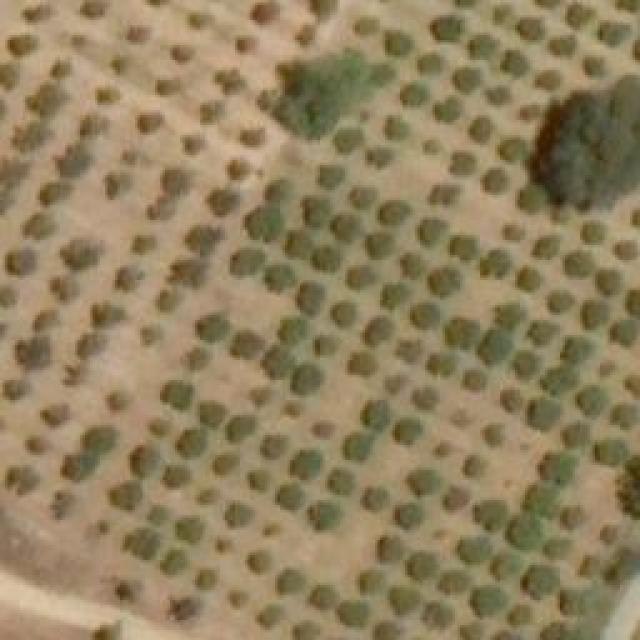Tree: (530, 75, 640, 208), (263, 48, 368, 138), (13, 330, 53, 375), (13, 118, 53, 158), (118, 528, 161, 563), (75, 423, 118, 456), (62, 238, 100, 273), (28, 85, 68, 118), (57, 143, 95, 176), (525, 398, 560, 433), (505, 515, 540, 550), (520, 480, 555, 515), (250, 205, 283, 240), (295, 280, 328, 315), (470, 498, 505, 531), (20, 213, 58, 243), (185, 225, 223, 255), (427, 13, 465, 43), (233, 120, 266, 153), (228, 328, 261, 361), (428, 265, 461, 298), (478, 248, 511, 281), (557, 583, 589, 617), (127, 440, 155, 478), (0, 465, 38, 493), (103, 483, 138, 513), (490, 300, 525, 330), (323, 468, 358, 498), (470, 585, 505, 615), (170, 260, 210, 285), (5, 248, 35, 281), (100, 168, 133, 198), (158, 168, 191, 198), (363, 318, 393, 351), (223, 500, 256, 530), (340, 430, 370, 463), (425, 600, 458, 630), (380, 30, 415, 58), (290, 363, 318, 398), (598, 22, 631, 50), (450, 65, 483, 93), (538, 367, 571, 395), (225, 153, 255, 183), (0, 158, 30, 188), (503, 50, 533, 80), (333, 213, 363, 243), (445, 318, 475, 348), (480, 330, 510, 360), (563, 248, 593, 278), (290, 448, 320, 478), (393, 415, 423, 445), (388, 585, 418, 615), (70, 333, 105, 358), (590, 438, 625, 463), (47, 53, 75, 83), (218, 67, 248, 95), (205, 187, 235, 215), (302, 195, 330, 225), (287, 230, 315, 260), (472, 118, 500, 148), (365, 225, 393, 255), (417, 218, 445, 248), (230, 245, 258, 275), (265, 263, 293, 293), (275, 317, 305, 345), (330, 300, 360, 328), (175, 425, 205, 453), (520, 183, 548, 213), (575, 387, 605, 415), (173, 515, 203, 543), (310, 502, 340, 530), (310, 582, 340, 610), (395, 500, 425, 528), (410, 468, 438, 498), (458, 535, 488, 563), (408, 552, 438, 580), (522, 565, 550, 595), (540, 452, 570, 480), (265, 178, 298, 203), (193, 403, 226, 428), (438, 570, 471, 595), (395, 83, 430, 106), (260, 347, 288, 375), (197, 317, 225, 345), (115, 265, 143, 293), (407, 300, 435, 328), (512, 352, 540, 380), (375, 535, 403, 563), (518, 15, 551, 38), (535, 535, 568, 558), (575, 555, 603, 582), (5, 35, 35, 60), (138, 110, 168, 135), (38, 178, 68, 203), (383, 115, 413, 140), (430, 98, 460, 123), (378, 200, 408, 225), (448, 235, 478, 260), (165, 378, 190, 408), (580, 300, 605, 330), (558, 423, 588, 448), (245, 548, 275, 573), (363, 400, 388, 430), (198, 100, 223, 128), (80, 112, 105, 140), (315, 163, 343, 188), (332, 125, 360, 150), (565, 3, 593, 28), (450, 150, 478, 175), (485, 170, 510, 198), (348, 265, 373, 293), (228, 415, 253, 443), (50, 278, 78, 303), (95, 302, 120, 330), (62, 455, 90, 480), (598, 267, 623, 295), (193, 565, 218, 593), (275, 570, 303, 595), (352, 570, 380, 595), (457, 455, 485, 480), (350, 15, 380, 38), (430, 183, 460, 206), (408, 385, 438, 408), (50, 488, 70, 521), (168, 598, 201, 618), (110, 53, 138, 76), (122, 148, 150, 171), (310, 248, 338, 271), (415, 50, 443, 73), (210, 455, 238, 478), (42, 403, 70, 426), (392, 340, 420, 363), (162, 553, 190, 576), (278, 482, 301, 510), (492, 553, 520, 576), (290, 25, 315, 50), (180, 133, 205, 158), (380, 283, 405, 308), (580, 220, 605, 245), (528, 320, 553, 345), (610, 320, 635, 345), (338, 603, 363, 628), (478, 420, 503, 445), (558, 505, 583, 530), (185, 13, 215, 33), (125, 23, 150, 46), (373, 65, 398, 88), (485, 85, 510, 108), (578, 58, 603, 81), (348, 185, 373, 208), (348, 353, 373, 376), (155, 290, 178, 315), (33, 308, 58, 331), (545, 290, 570, 313), (565, 340, 588, 365), (363, 485, 386, 510), (253, 605, 278, 628), (445, 488, 470, 511), (22, 5, 50, 25), (307, 0, 335, 20), (152, 78, 180, 98), (145, 200, 173, 220), (465, 35, 493, 55), (535, 238, 563, 258), (250, 0, 275, 22), (600, 523, 621, 549), (135, 233, 158, 256), (400, 250, 423, 273), (3, 378, 26, 401), (165, 465, 188, 488), (263, 435, 286, 458), (372, 622, 400, 640), (0, 65, 20, 90), (80, 0, 105, 20), (233, 35, 258, 55), (550, 35, 575, 55), (498, 140, 523, 160), (25, 435, 50, 455), (598, 355, 618, 380), (295, 620, 320, 640), (98, 85, 118, 108), (368, 145, 391, 165), (185, 348, 205, 371), (60, 368, 83, 388), (430, 355, 453, 375), (618, 403, 638, 426), (250, 385, 273, 405), (510, 603, 533, 623), (173, 42, 198, 60), (515, 102, 538, 120), (140, 323, 158, 346), (520, 268, 538, 291), (622, 375, 640, 398), (310, 420, 333, 438), (448, 410, 471, 428), (538, 70, 558, 90), (313, 335, 333, 355), (148, 418, 168, 438), (615, 240, 635, 260), (230, 590, 250, 610), (383, 375, 403, 395), (463, 620, 483, 640), (460, 370, 480, 390), (490, 5, 510, 23), (420, 138, 438, 158), (107, 390, 125, 410), (502, 223, 520, 243), (150, 502, 170, 520), (198, 487, 218, 505), (212, 535, 230, 555), (247, 470, 265, 490), (0, 285, 15, 308), (93, 625, 116, 640), (112, 582, 130, 600), (432, 440, 450, 458), (73, 30, 88, 50), (503, 390, 518, 408), (95, 517, 110, 535), (262, 523, 280, 538), (360, 108, 375, 123), (285, 400, 300, 415)
